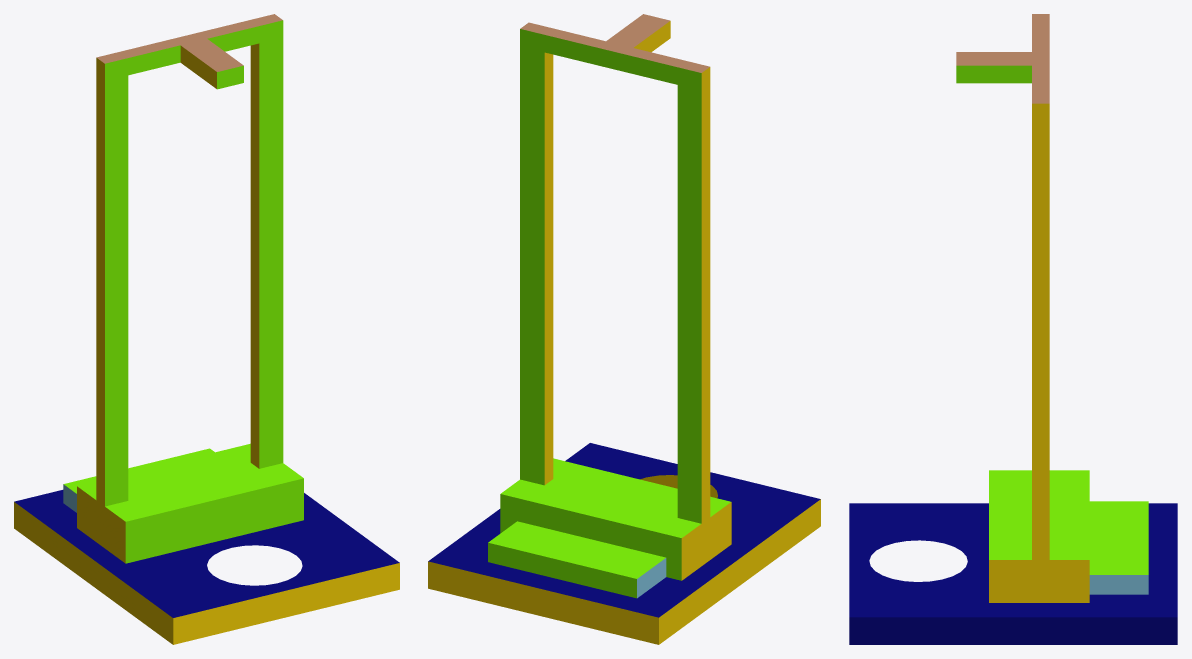
File: tow.obj
3 renders of one model, left to right at view 1: azimuth 30°, elevation 25°; view 2: azimuth 150°, elevation 25°; view 3: azimuth 270°, elevation 25°, orthographic. The views are drawn at different scales.
Parts seen in each view (by area): view 1: Model; view 2: Model; view 3: Model.
Part boxes in pixels (left/top/right/bottom): Model: left=14, top=14, right=399, bottom=644; Model: left=428, top=14, right=820, bottom=644; Model: left=849, top=14, right=1177, bottom=644.
Bounding box in the file's own units: 416 × 897 × 506.
